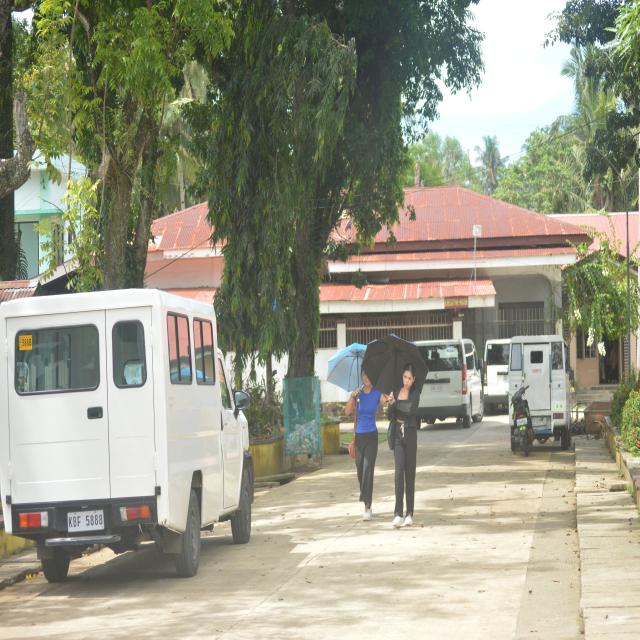person: (346, 371, 387, 521), (389, 364, 419, 527)
